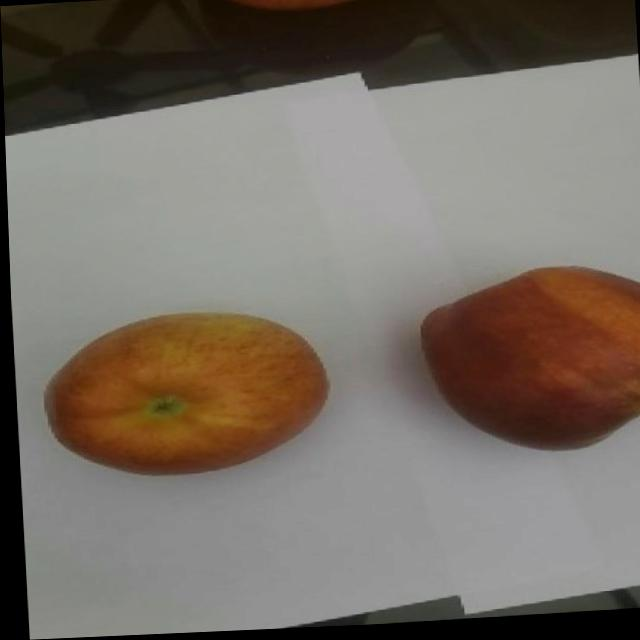Apple: (37, 307, 331, 485), (413, 266, 640, 465)
